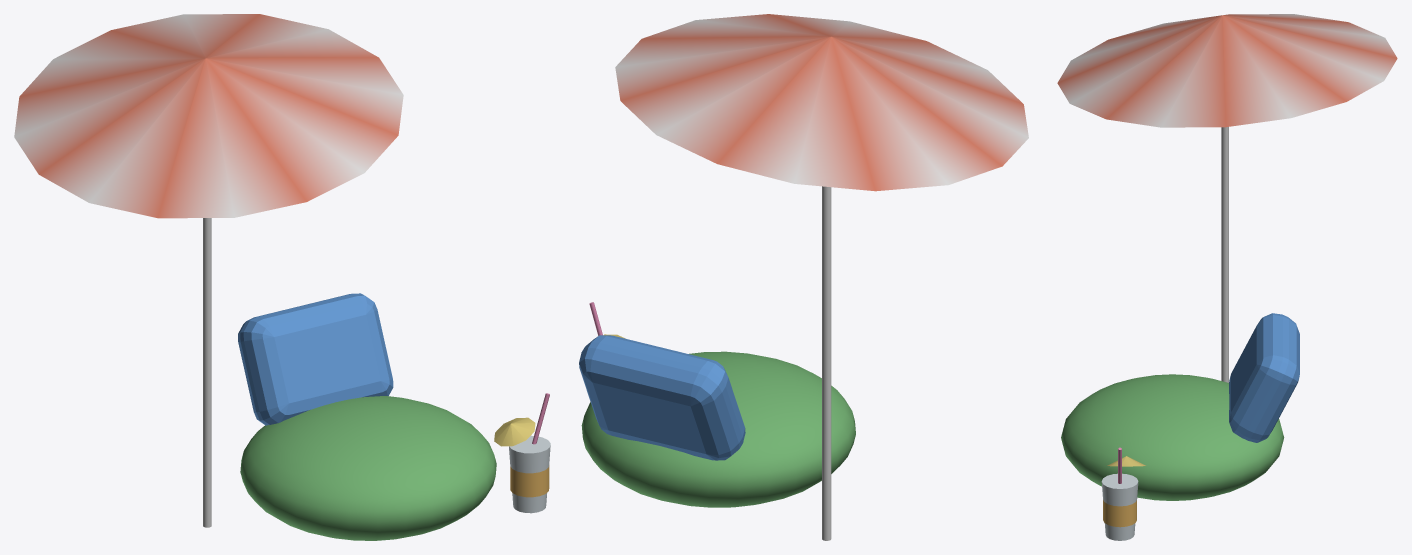
Rendered from clippy-lounge.glb.
3 views of the same model, side by side, from view 1: azimuth 30°, elevation 25°; view 2: azimuth 150°, elevation 25°; view 3: azimuth 270°, elevation 25° (orthographic). The views are drawn at different scales.
Visible parts, largest first — view 1: lounge; view 2: lounge; view 3: lounge.
Part boxes in pixels (x1,y1,x2,y2): lounge: (14,14,550,540); lounge: (579,14,1028,540); lounge: (1057,14,1397,540).
Size of the model in its own units: 0.6844 by 0.686 by 0.5183.
